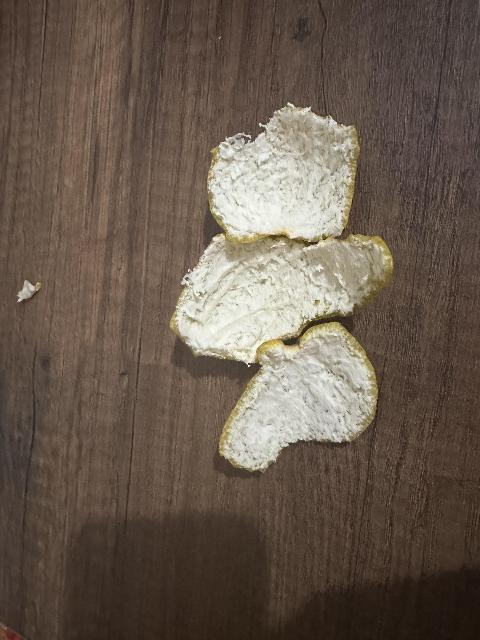Organik: (171, 105, 384, 476), (168, 222, 392, 367), (213, 316, 373, 479), (205, 98, 363, 243), (15, 275, 48, 309)
